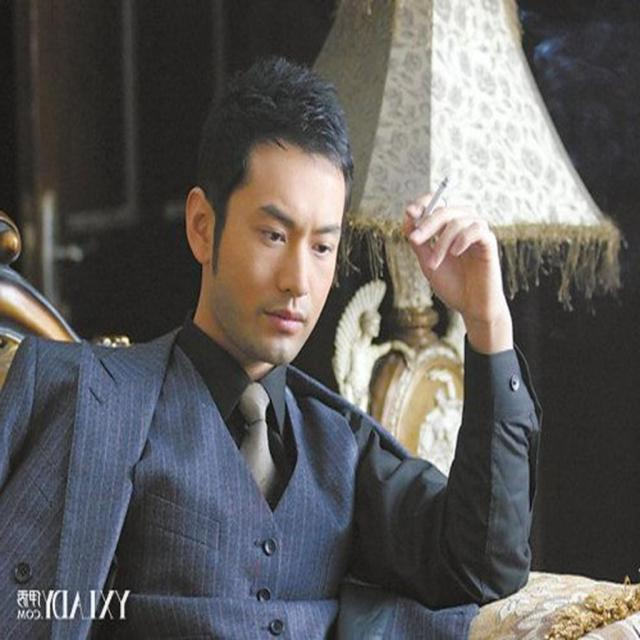smoking: (183, 138, 462, 346)
